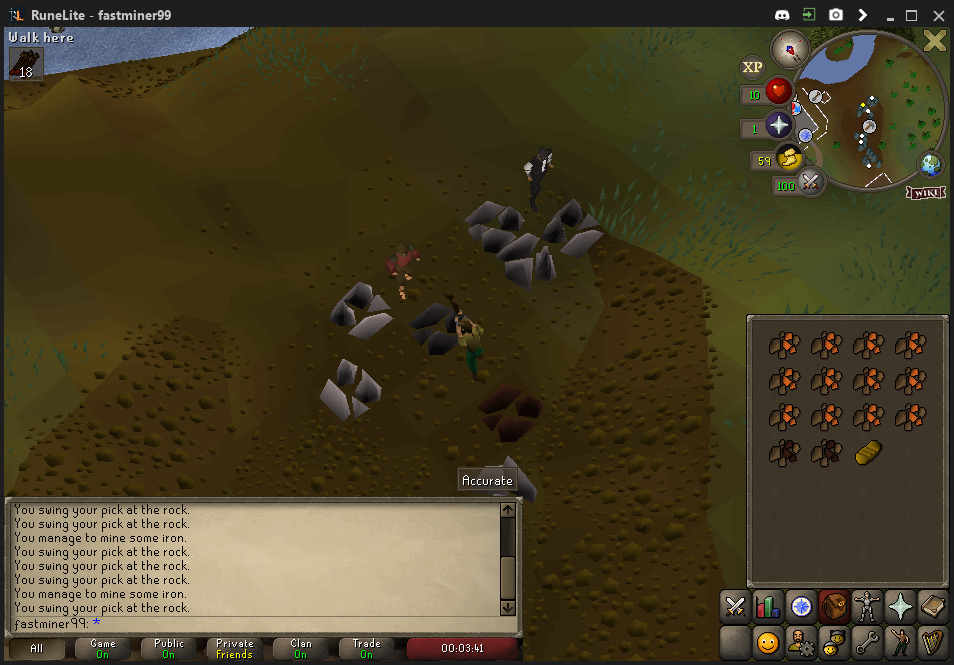depleted: (412, 298, 470, 360)
ore: (477, 381, 548, 441)
